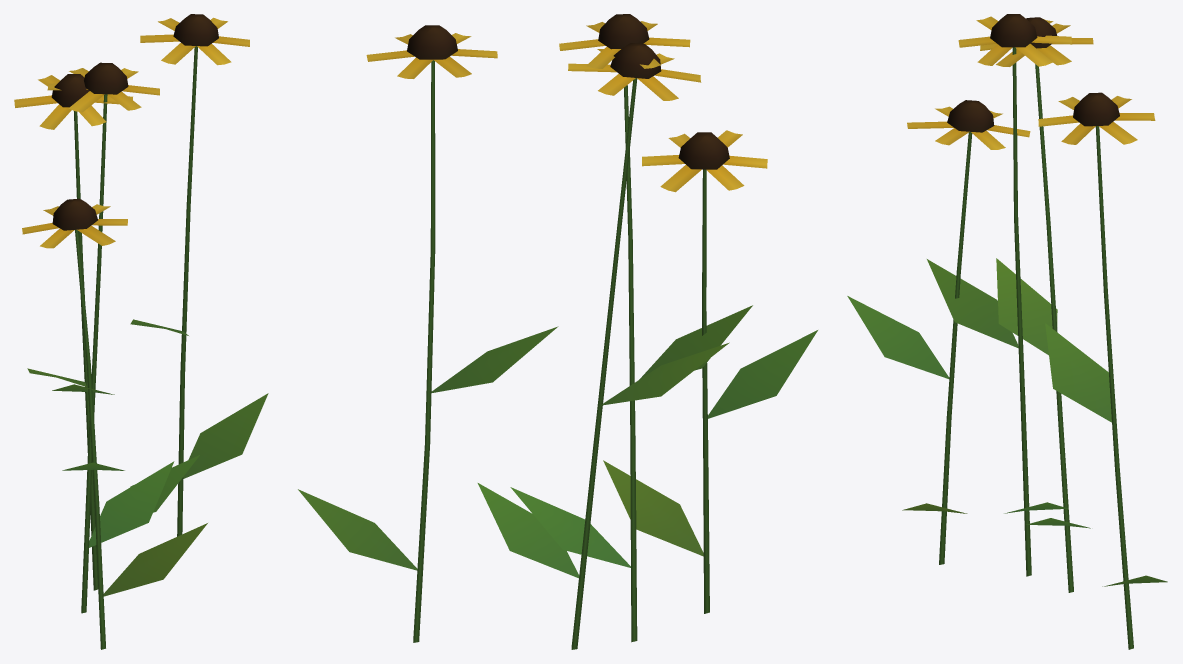
The model's file is flower-black-eyed-susan-b.lod1.glb.
The picture shows the model from 3 angles, left to right: view 1: azimuth 30°, elevation 25°; view 2: azimuth 150°, elevation 25°; view 3: azimuth 270°, elevation 25°; orthographic projection. The views are drawn at different scales.
Visible parts, largest first — view 1: flower-black-eyed-susan-b.lod1; view 2: flower-black-eyed-susan-b.lod1; view 3: flower-black-eyed-susan-b.lod1.
Boxes of the visible parts, x1,y1,x2,y2 form: flower-black-eyed-susan-b.lod1: (14,14,268,649); flower-black-eyed-susan-b.lod1: (298,14,817,649); flower-black-eyed-susan-b.lod1: (847,14,1167,649).
Bounding box in the file's own units: 0.2967 × 0.4794 × 0.2468.
